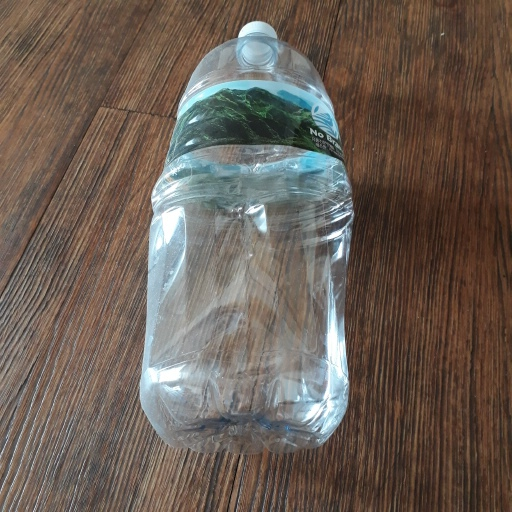Plastic_0: (141, 20, 356, 455)
